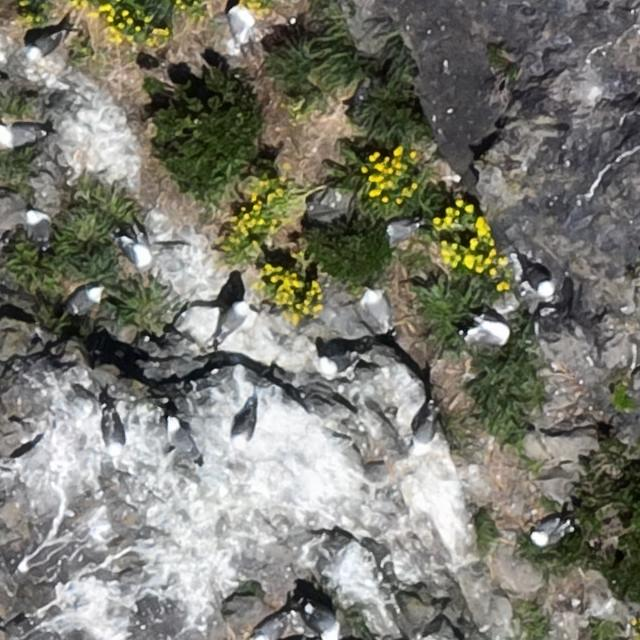umineko: (165, 418, 201, 476), (362, 282, 391, 334), (318, 349, 366, 378), (467, 316, 509, 346), (520, 261, 551, 295), (68, 287, 100, 314), (220, 302, 247, 334), (532, 519, 564, 544), (232, 409, 254, 444), (26, 211, 48, 245), (30, 34, 61, 58), (106, 417, 125, 455), (125, 239, 148, 269), (2, 126, 38, 144), (255, 617, 284, 639), (386, 221, 416, 241)
